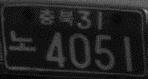0: (69, 32, 90, 68)
1: (122, 35, 133, 73), (95, 10, 103, 31)
3: (76, 8, 91, 29)
4: (46, 31, 67, 67)
5: (93, 33, 114, 71)
노: (8, 29, 37, 53)
충북_O: (38, 7, 74, 26)
